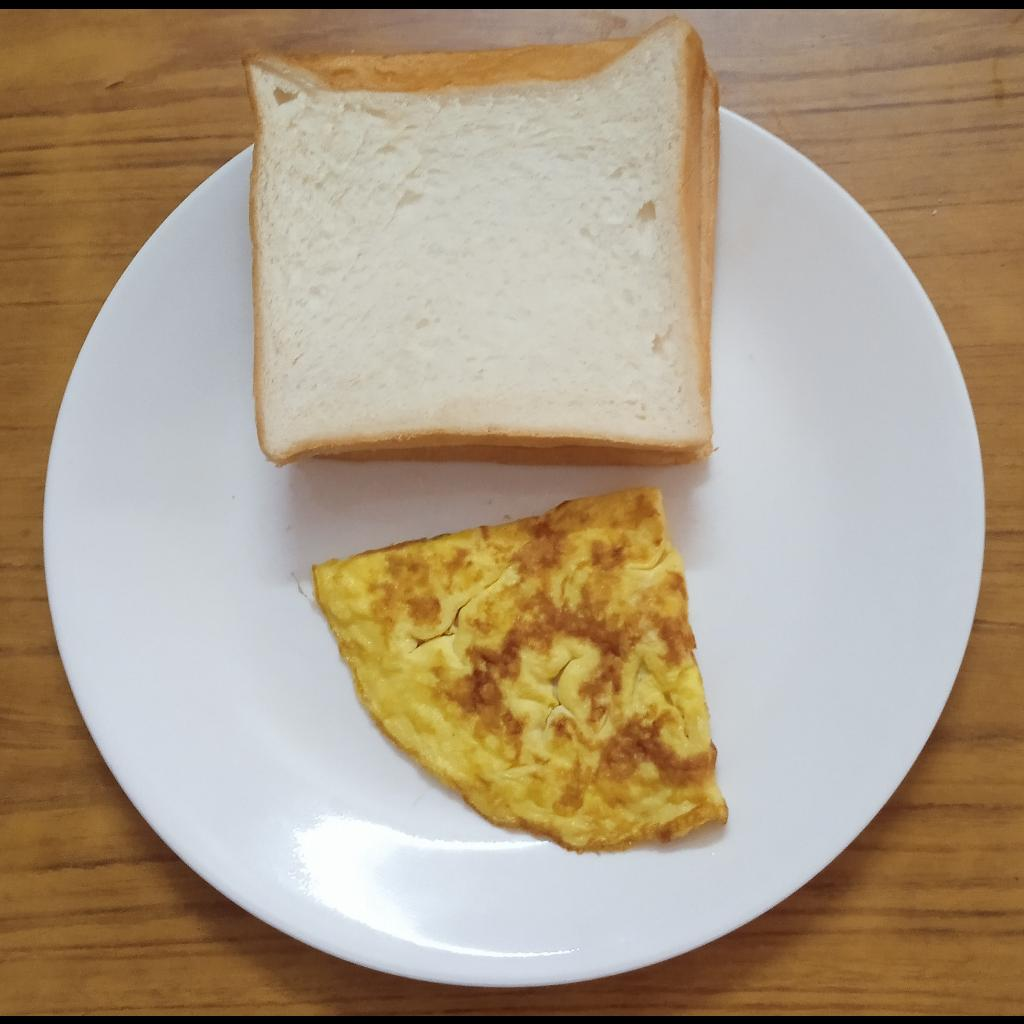bread: (240, 16, 720, 469)
egg-poached: (314, 484, 729, 851)
